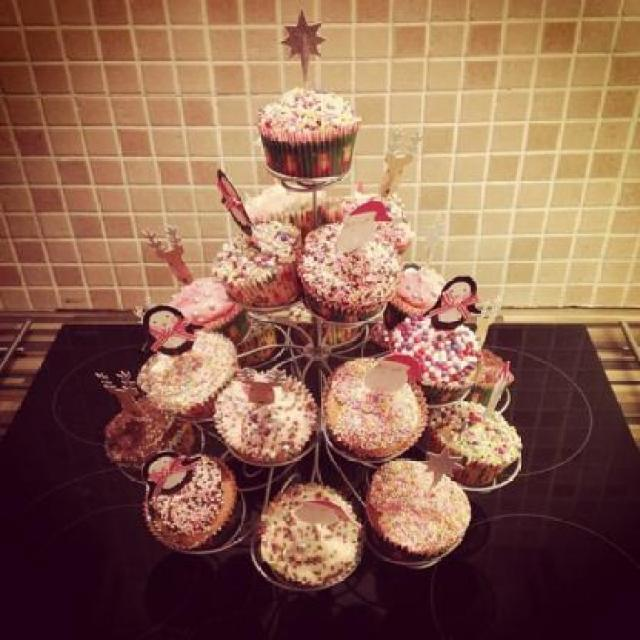Muffin: (92, 7, 520, 590)
